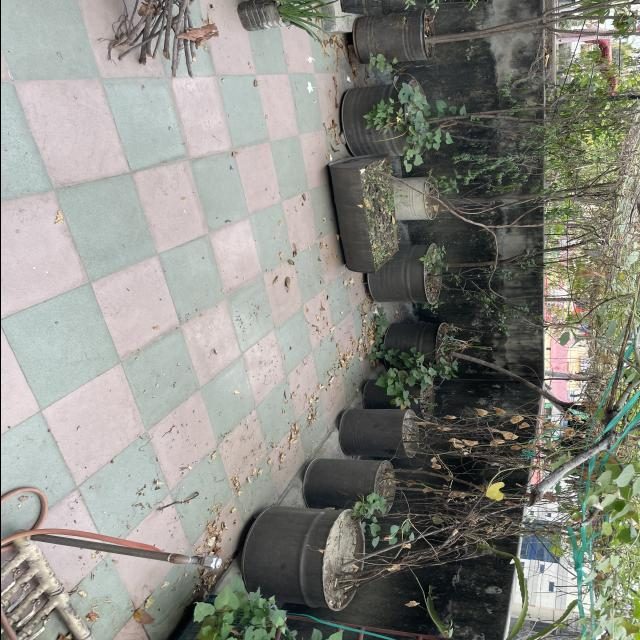Breeding Place: (328, 160, 399, 270), (338, 87, 434, 161), (306, 449, 394, 512), (330, 405, 426, 457), (364, 242, 440, 306), (349, 12, 439, 58), (384, 323, 457, 367), (394, 175, 443, 221), (229, 1, 300, 30)
